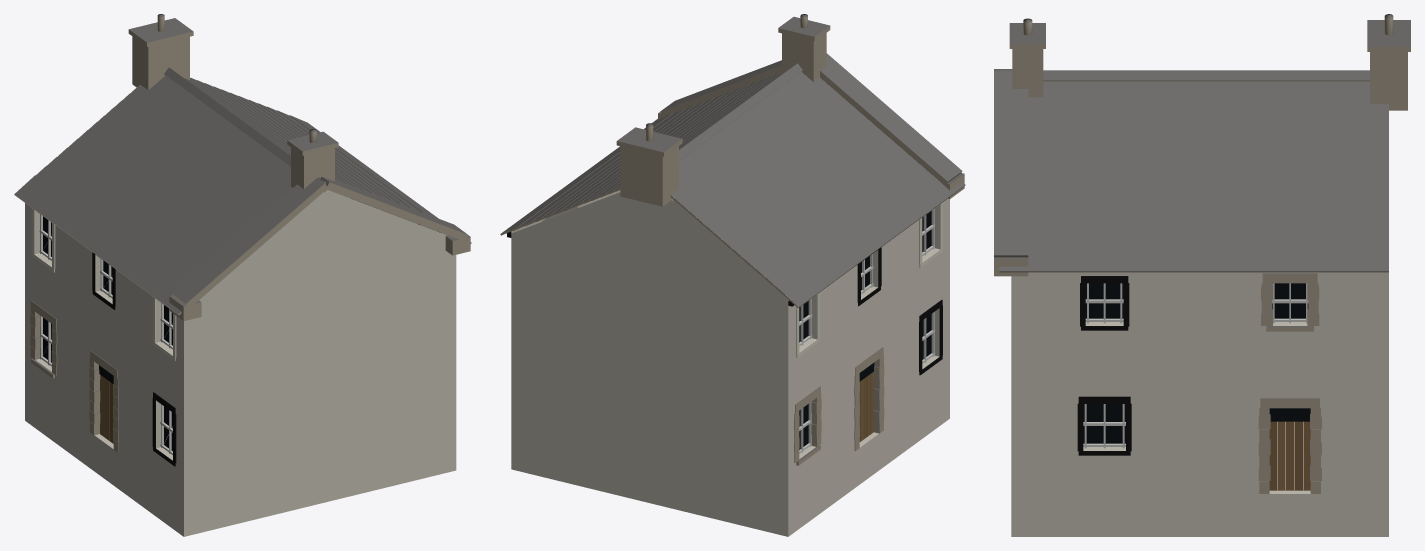
Rendered from context.dales.house_06.glb.
3 renders of one model, left to right at view 1: azimuth 30°, elevation 25°; view 2: azimuth 150°, elevation 25°; view 3: azimuth 270°, elevation 25°, orthographic. The views are drawn at different scales.
Visible parts, largest first — view 1: main__render_cbb, main__slate_666, main__stone_a98, main__paint_ccc, main__glass_dark, main__rubber, main__paint_ccb; view 2: main__render_cbb, main__slate_666, main__stone_a98, main__paint_ccc, main__glass_dark, main__rubber, main__paint_ccb, main__paint_764; view 3: main__render_cbb, main__slate_666, main__stone_a98, main__glass_dark, main__rubber, main__paint_ccc, main__paint_753, main__paint_764, main__paint_864.
Part boxes in pixels (x1,y1,x2,y2): main__render_cbb: (25, 190, 456, 536); main__slate_666: (14, 14, 470, 441); main__stone_a98: (14, 16, 471, 452); main__paint_ccc: (39, 214, 172, 454); main__glass_dark: (43, 216, 172, 451); main__rubber: (92, 224, 419, 466); main__paint_ccb: (31, 208, 176, 360); main__render_cbb: (511, 190, 949, 536); main__slate_666: (501, 14, 965, 461); main__stone_a98: (500, 16, 965, 465); main__paint_ccc: (799, 208, 934, 453); main__glass_dark: (799, 211, 931, 449); main__rubber: (507, 229, 942, 375); main__paint_ccb: (796, 202, 942, 357); main__paint_764: (860, 372, 873, 441); main__render_cbb: (1011, 272, 1388, 536); main__slate_666: (994, 14, 1410, 481); main__stone_a98: (994, 16, 1410, 493); main__glass_dark: (1083, 283, 1310, 443); main__rubber: (1077, 276, 1131, 455); main__paint_ccc: (1083, 283, 1308, 448); main__paint_753: (1269, 421, 1302, 490); main__paint_764: (1286, 421, 1310, 490); main__paint_864: (1277, 421, 1285, 490).
Bounding box in the file's own units: 8.48 × 10.27 × 8.77.
